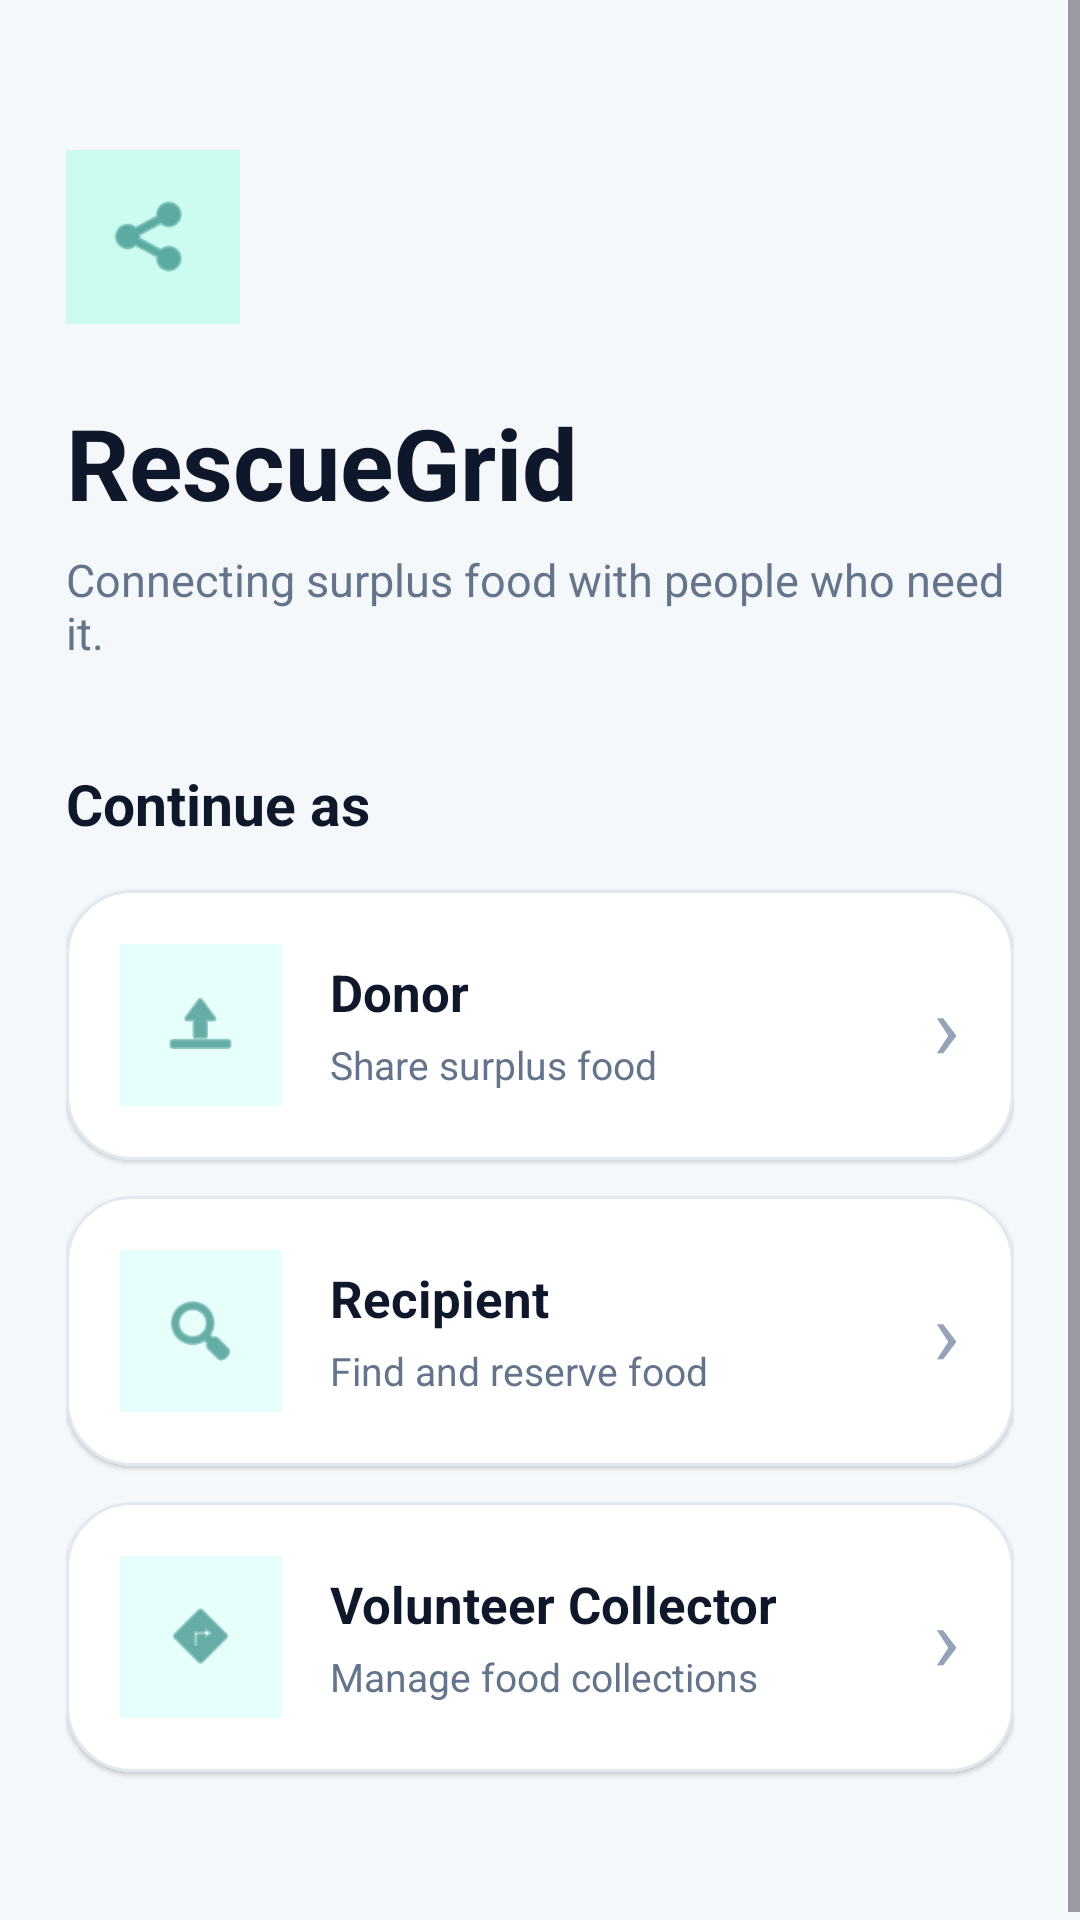

Icons on this 1080*1920 Android screen, each with its box as box(x1, y1, x2, y2):
directions: box(173, 1608, 228, 1664)
search: box(171, 1301, 230, 1361)
share: box(115, 201, 182, 272)
